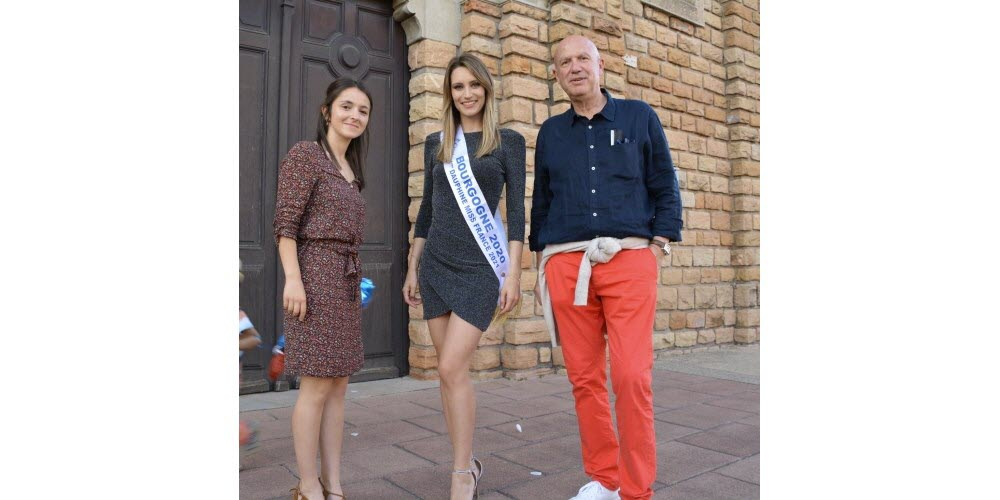without_mask: (556, 46, 599, 93), (447, 73, 488, 120), (333, 97, 373, 141)
